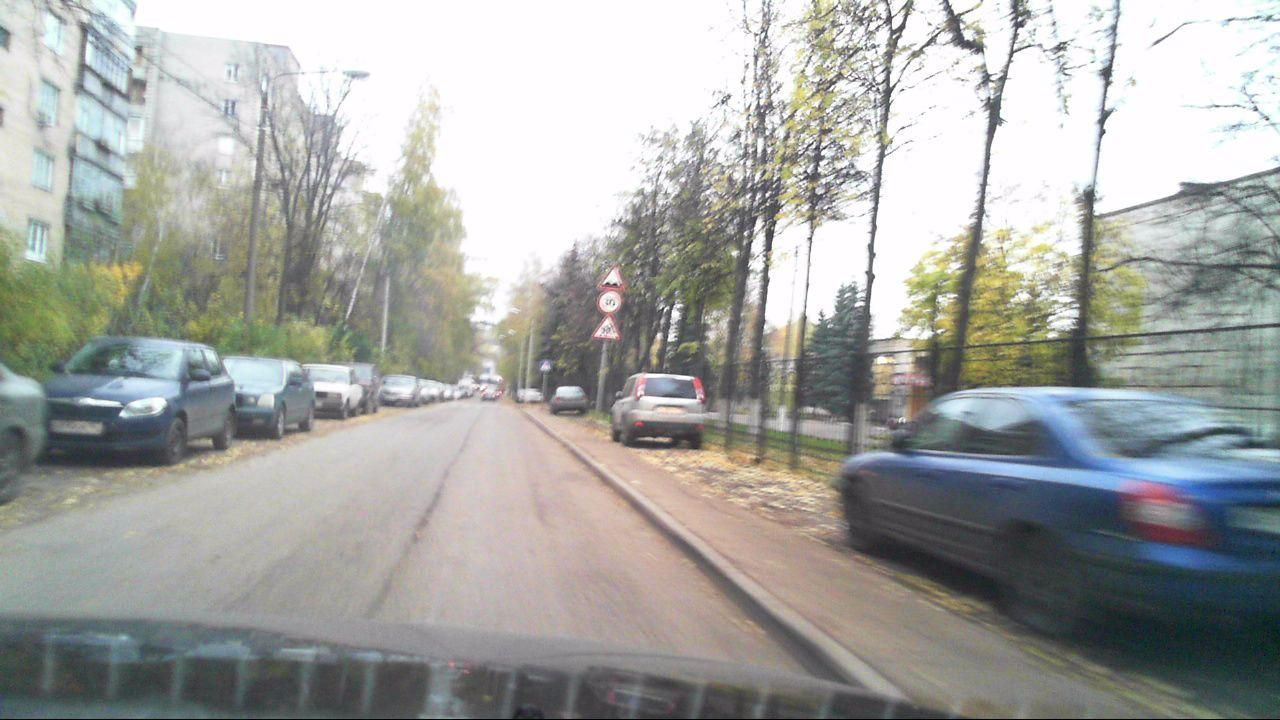road_sign: (593, 261, 628, 293), (589, 310, 625, 341), (596, 288, 625, 316)
